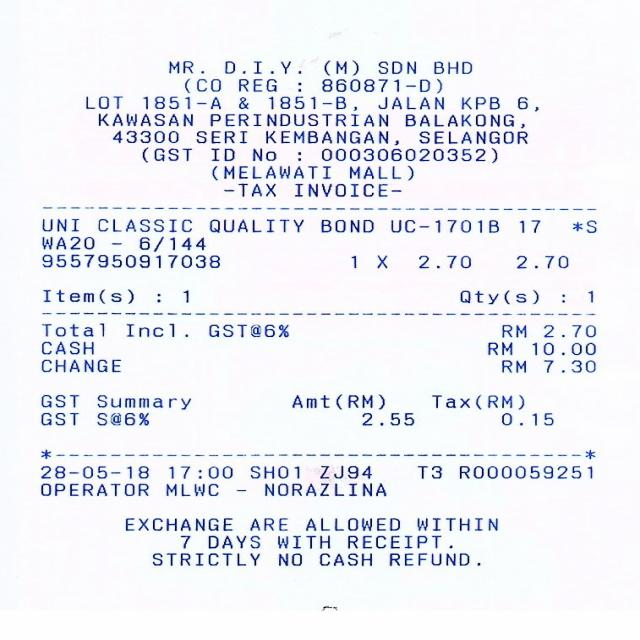text: (318, 146, 494, 162), (41, 253, 218, 267), (210, 112, 386, 126), (266, 129, 398, 145), (211, 164, 329, 179), (319, 78, 440, 92), (264, 482, 384, 496), (404, 114, 523, 128), (457, 466, 591, 478), (38, 464, 147, 478), (418, 130, 526, 144), (293, 183, 400, 197), (390, 218, 497, 232), (123, 516, 230, 530), (151, 552, 257, 566), (96, 394, 190, 409), (430, 394, 522, 409), (292, 393, 383, 408), (345, 535, 450, 548), (208, 218, 302, 232), (38, 483, 147, 495), (98, 112, 191, 126), (97, 218, 190, 232), (305, 516, 398, 530), (388, 552, 479, 566), (457, 288, 536, 304), (266, 96, 354, 110), (416, 516, 496, 530), (140, 95, 218, 109), (41, 288, 119, 302), (209, 323, 287, 337), (222, 60, 298, 74), (138, 235, 204, 251), (40, 358, 118, 371), (347, 164, 411, 179), (376, 95, 442, 108), (41, 322, 102, 336), (532, 341, 594, 354), (110, 130, 176, 142), (141, 146, 190, 162), (166, 466, 230, 478), (41, 339, 92, 354), (124, 323, 174, 338), (39, 236, 92, 250), (359, 412, 412, 426), (500, 412, 553, 426), (163, 482, 216, 496), (275, 534, 328, 548), (222, 183, 274, 197), (320, 218, 372, 232), (207, 534, 259, 548), (318, 552, 370, 566), (418, 254, 469, 268), (516, 254, 566, 268), (319, 464, 369, 478), (194, 130, 246, 142), (541, 325, 594, 336), (541, 360, 594, 371), (250, 466, 298, 478), (40, 393, 78, 408), (96, 413, 147, 424), (323, 59, 357, 75), (431, 60, 469, 74), (236, 77, 274, 91), (39, 218, 77, 232), (247, 516, 285, 530), (460, 95, 498, 108), (183, 78, 218, 92), (84, 95, 120, 108), (377, 61, 414, 73), (38, 413, 76, 424), (166, 61, 201, 72), (249, 146, 274, 160), (486, 340, 511, 354), (501, 323, 525, 337), (210, 146, 233, 160), (277, 552, 300, 566), (572, 219, 595, 232), (515, 96, 536, 110), (416, 466, 440, 478), (516, 219, 538, 232), (499, 360, 523, 371), (374, 253, 387, 270), (182, 288, 194, 302), (349, 254, 359, 268), (178, 535, 188, 548), (585, 290, 594, 304), (237, 96, 247, 108)
